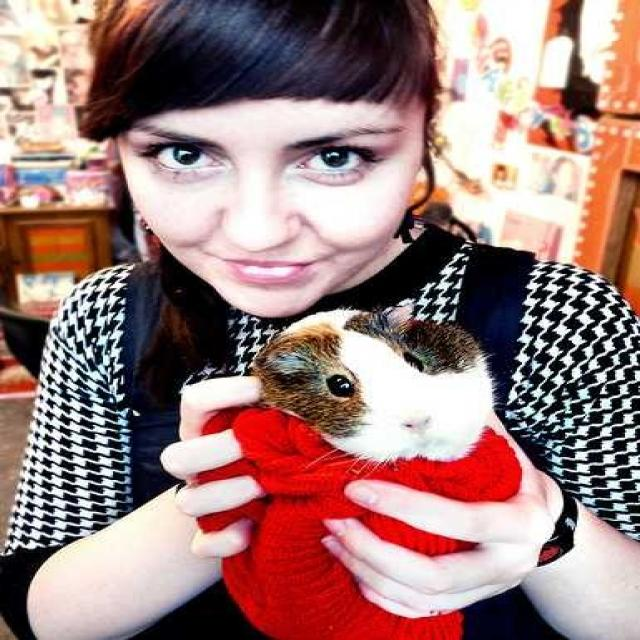guinea pig: (270, 296, 500, 464)
